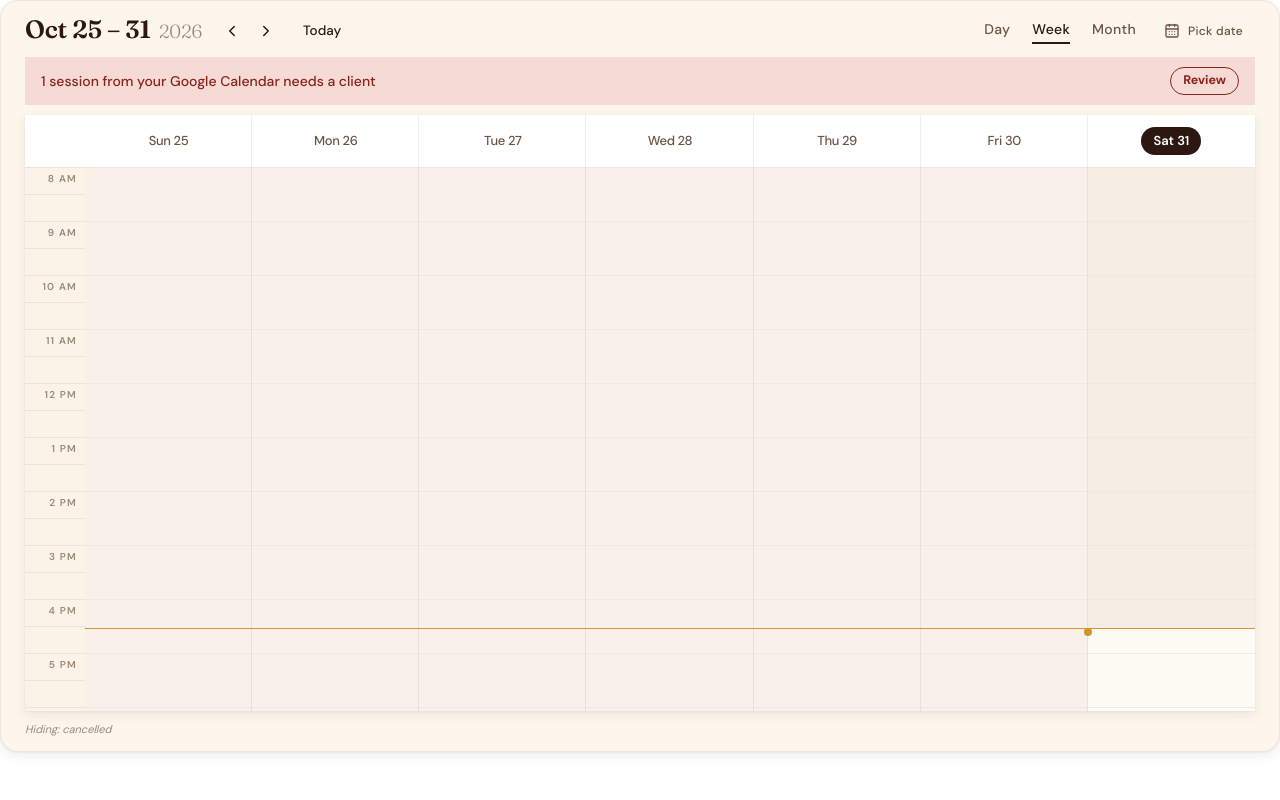
Test: sessions from the clinician's own calendar › says which sessions weren't added because another appointment was there
(page scrolled)
Click the button "Review".
click(1205, 81)  # box [1170,67,1239,95]
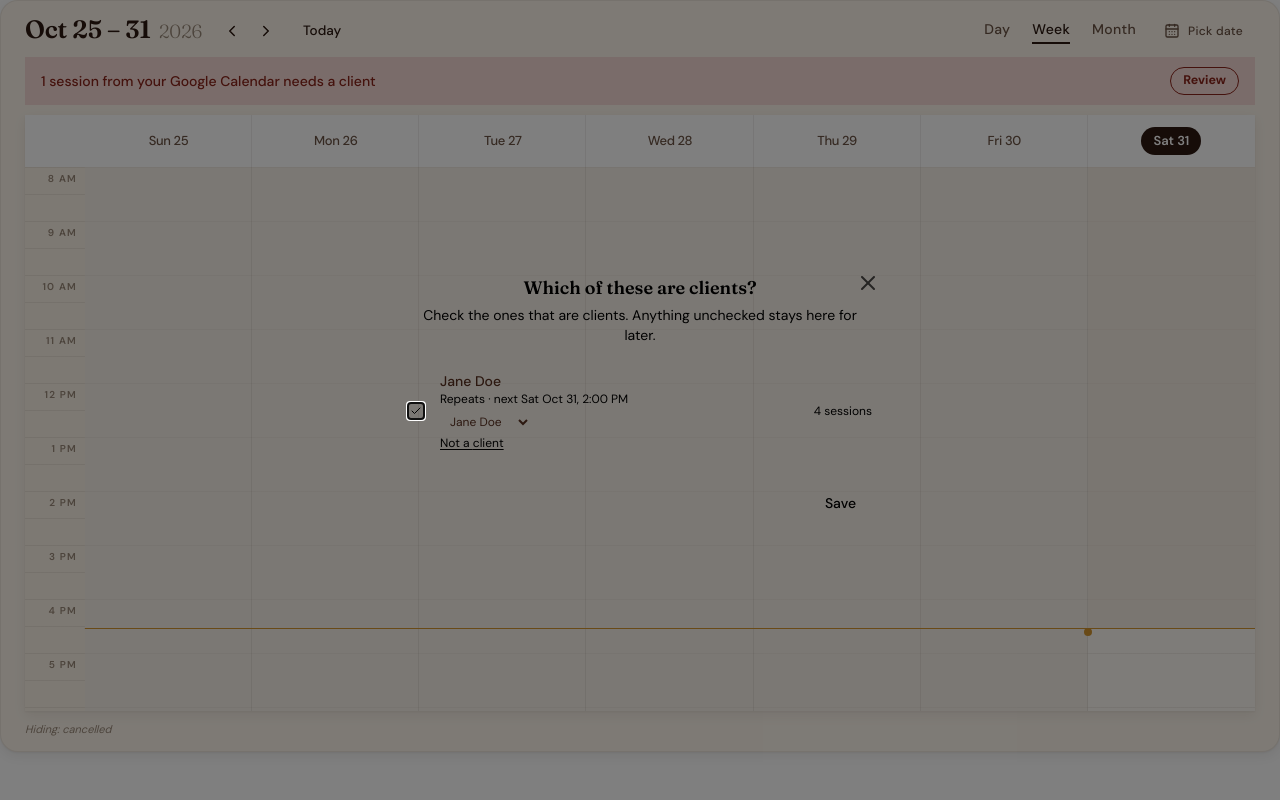
Click the button "Save".
click(840, 503)  # box [809,485,872,521]
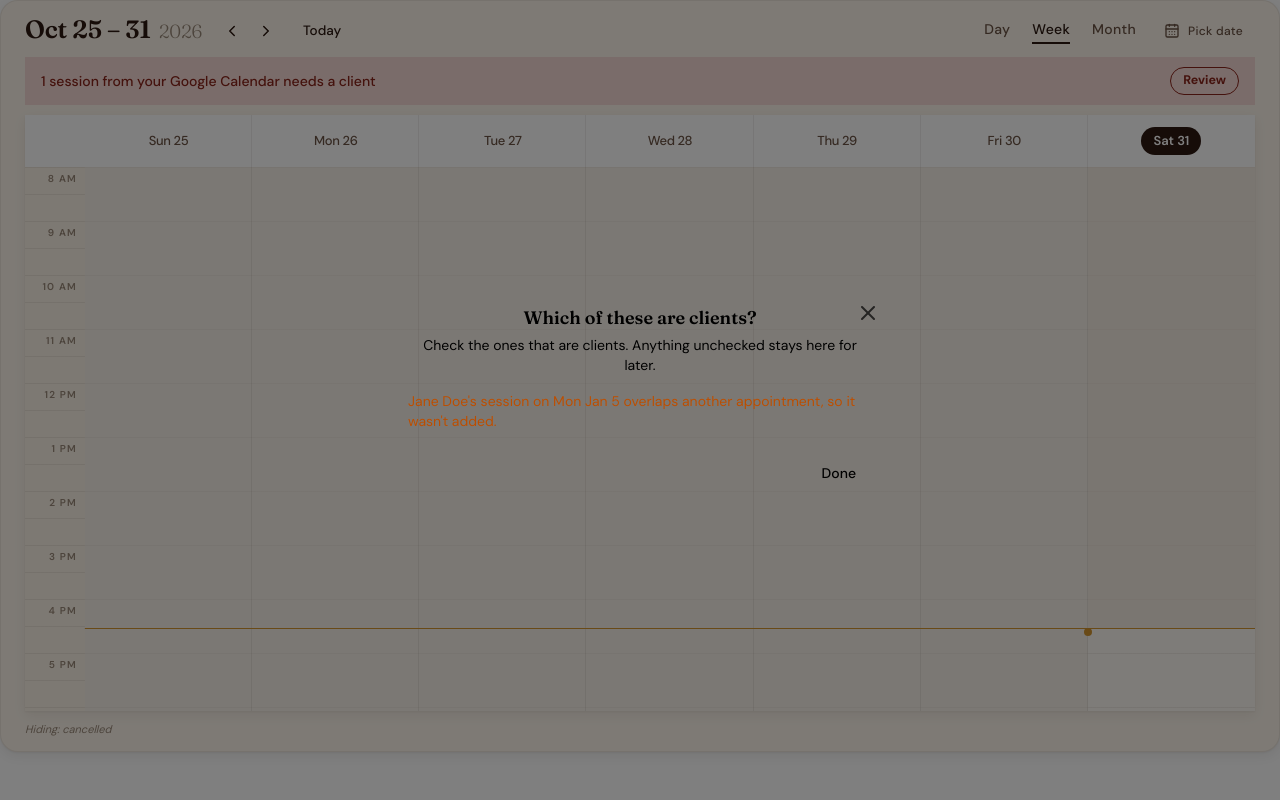
Now the element with test id "outside-not-added" shows "Jane Doe's session on Mon Jan 5 overlaps another appointment, so it wasn't added.", box [408,392,855,430]
Now the button "Done" is shown, box [806,455,872,491]
